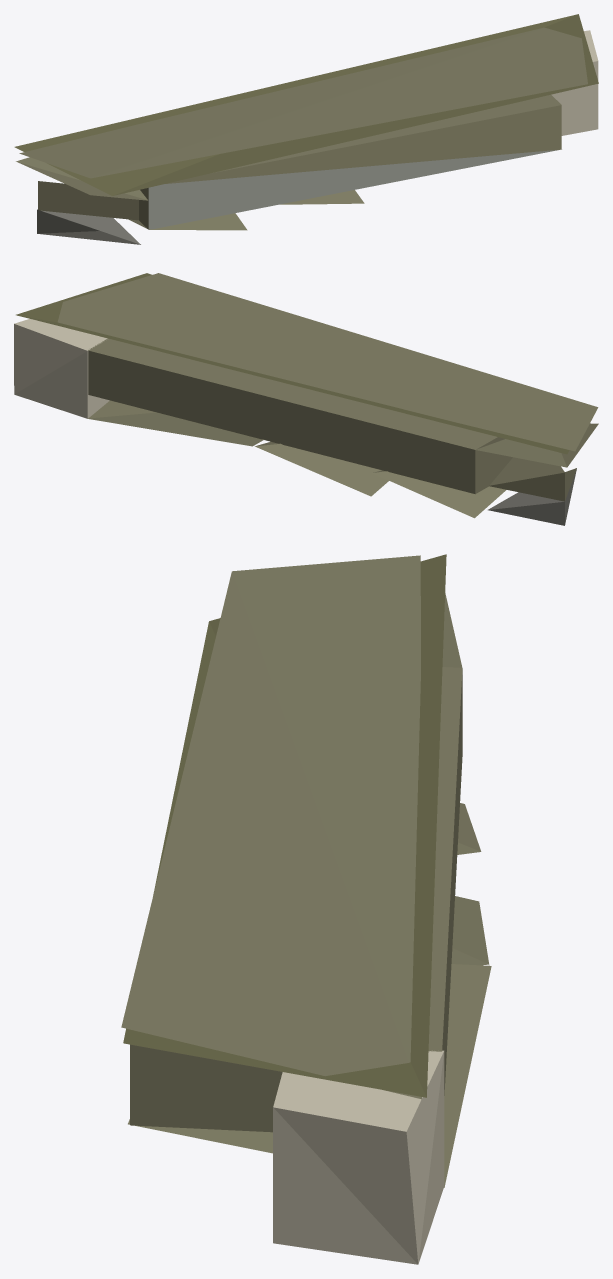
File: kiosk-park-bea.lod2.glb
The picture shows the model from 3 angles, top to bottom: view 1: azimuth 30°, elevation 25°; view 2: azimuth 150°, elevation 25°; view 3: azimuth 270°, elevation 25°; orthographic projection. The views are drawn at different scales.
Visible parts, largest first — view 1: lod2; view 2: lod2; view 3: lod2.
Part boxes in pixels (x1,y1,x2,y2): lod2: [14, 14, 598, 244]; lod2: [14, 273, 598, 525]; lod2: [121, 554, 491, 1264].
Bounding box in the file's own units: 21.99 × 3.14 × 6.25.
